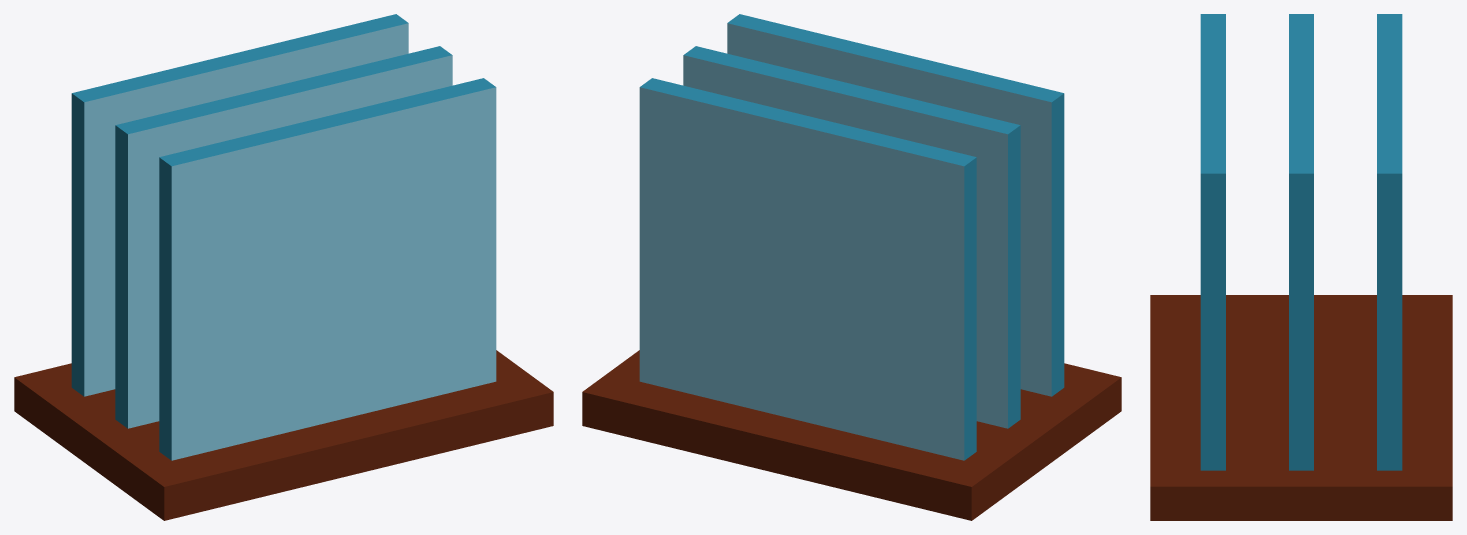
File: glass.glb
3 views of the same model, side by side, from view 1: azimuth 30°, elevation 25°; view 2: azimuth 150°, elevation 25°; view 3: azimuth 270°, elevation 25° (orthographic).
Visible parts, largest first — view 1: glass; view 2: glass; view 3: glass.
Boxes of the visible parts, x1,y1,x2,y2 form: glass: [14, 14, 553, 520]; glass: [582, 14, 1121, 520]; glass: [1150, 14, 1452, 520].
Bounding box in the file's own units: 0.36 × 0.29 × 0.24.
1 material, 1 textured.
